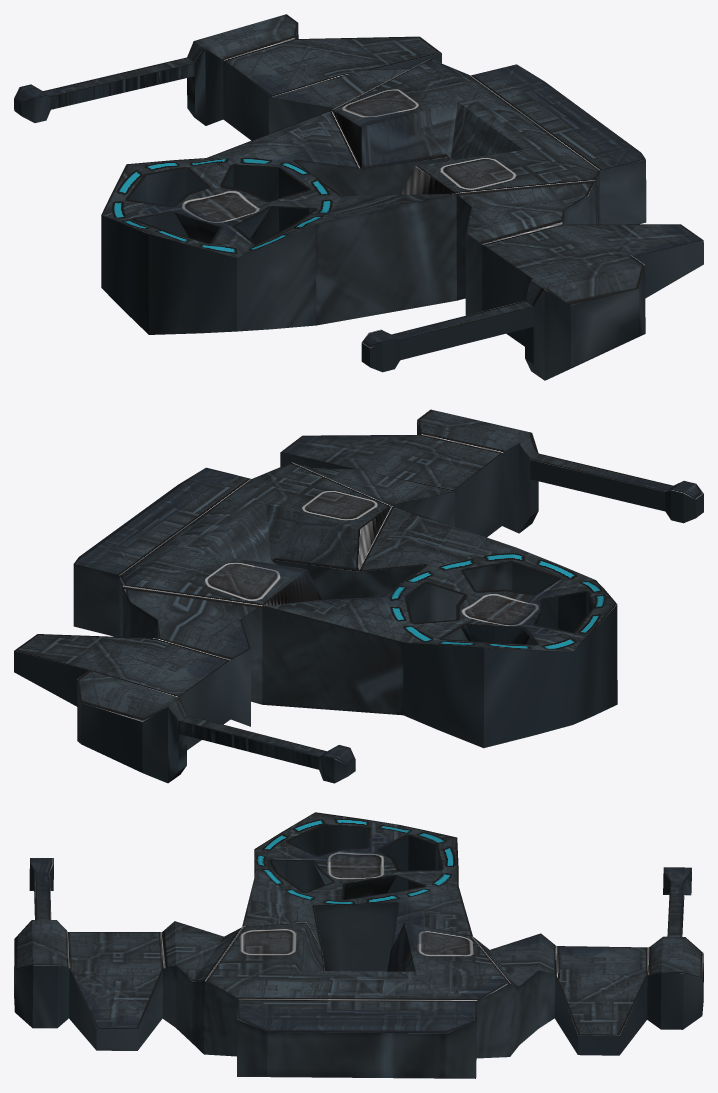
The model's file is bossModel3.fbx.
The picture shows the model from 3 angles, top to bottom: view 1: azimuth 30°, elevation 25°; view 2: azimuth 150°, elevation 25°; view 3: azimuth 270°, elevation 25°; orthographic projection. The views are drawn at different scales.
Parts seen in each view (by area): view 1: Cube; view 2: Cube; view 3: Cube.
Part boxes in pixels (<box>): Cube: <box>14,14,703,380</box>; Cube: <box>14,409,703,783</box>; Cube: <box>14,812,703,1078</box>.
Bounding box in the file's own units: 948 × 214 × 1322.
1 material, 1 textured.
